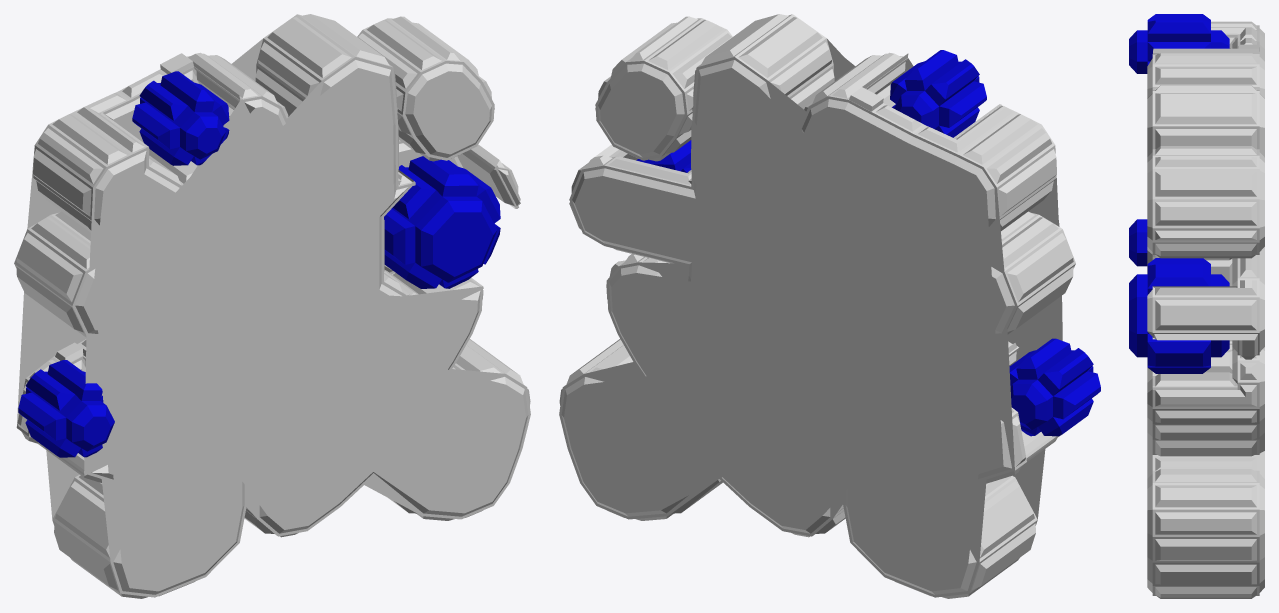
The model's file is Ch_China_我_01.fbx.
The picture shows the model from 3 angles, left to right: view 1: azimuth 30°, elevation 25°; view 2: azimuth 150°, elevation 25°; view 3: azimuth 270°, elevation 25°; orthographic projection. The views are drawn at different scales.
Visible parts, largest first — view 1: sphere1; view 2: sphere1; view 3: sphere1.
Part boxes in pixels (bbox=[...]): sphere1: bbox=[14, 14, 530, 598]; sphere1: bbox=[559, 14, 1100, 598]; sphere1: bbox=[1129, 14, 1264, 598].
Bounding box in the file's own units: 0.968 × 0.9428 × 0.2541.
